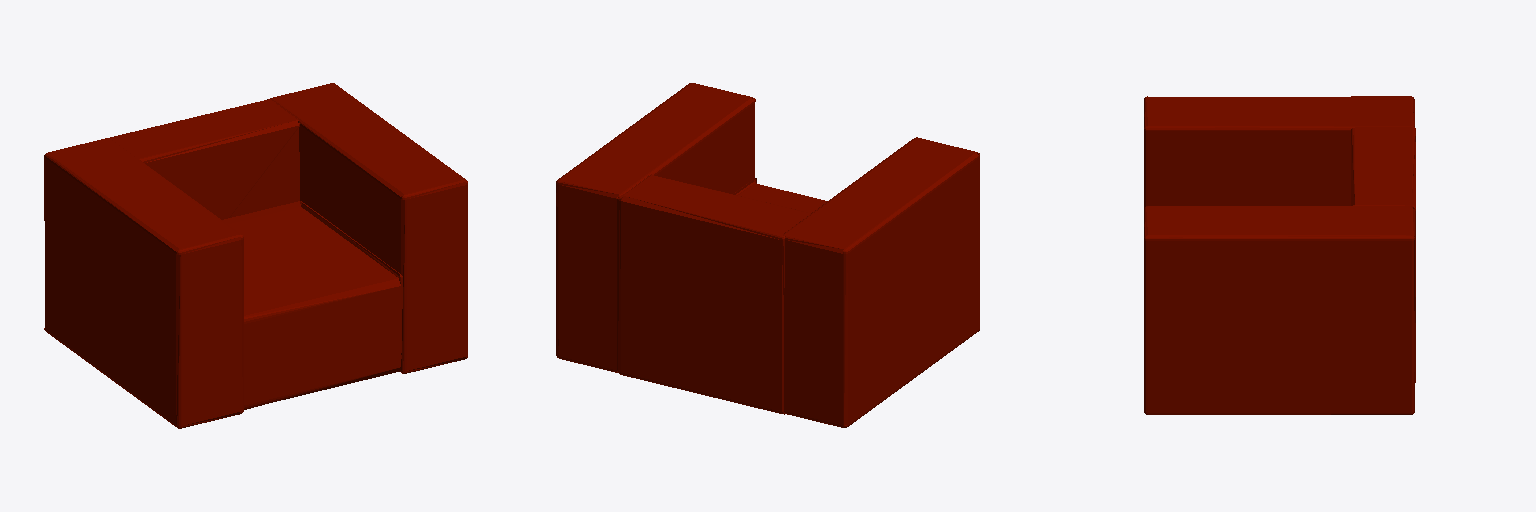
The model's file is armchair.obj.
3 renders of one model, left to right at view 1: azimuth 30°, elevation 25°; view 2: azimuth 150°, elevation 25°; view 3: azimuth 270°, elevation 25°, orthographic.
Visible parts, largest first — view 1: polySurface2; view 2: polySurface2; view 3: polySurface2.
Part boxes in pixels (x1,y1,x2,y2): polySurface2: (44,83,467,428); polySurface2: (556,83,979,427); polySurface2: (1144,96,1415,414).
Bounding box in the file's own units: 46.56 × 27.43 × 37.67.